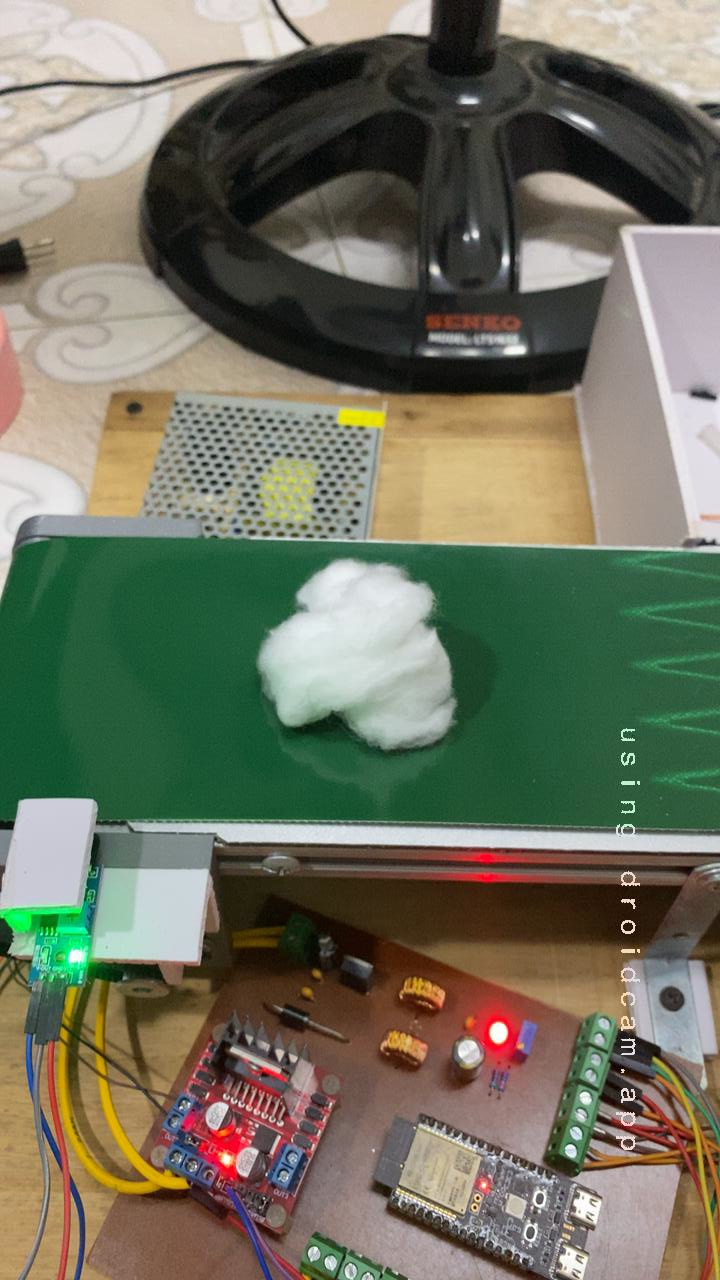cotton: (228, 550, 485, 771)
